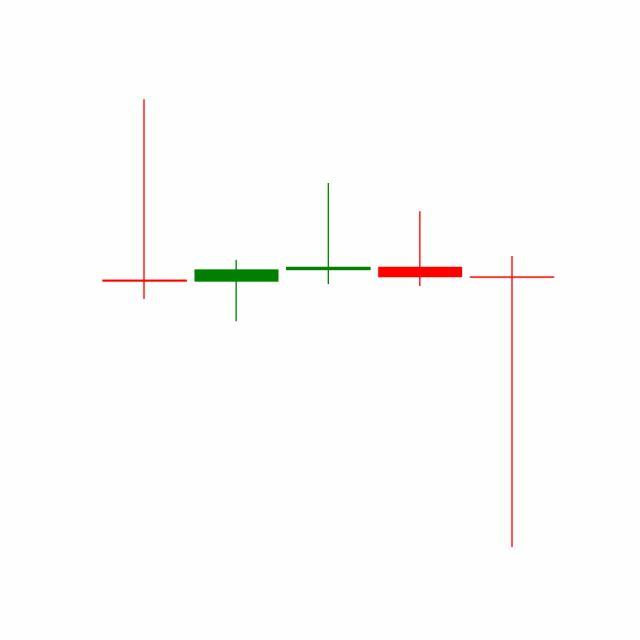Spinning Top: (466, 253, 559, 552)
